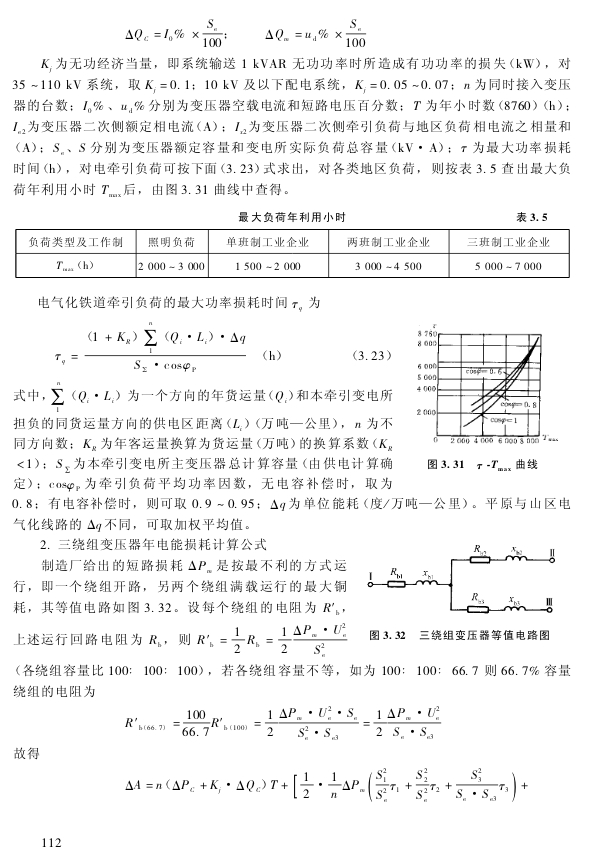table: (15, 229, 570, 278)
